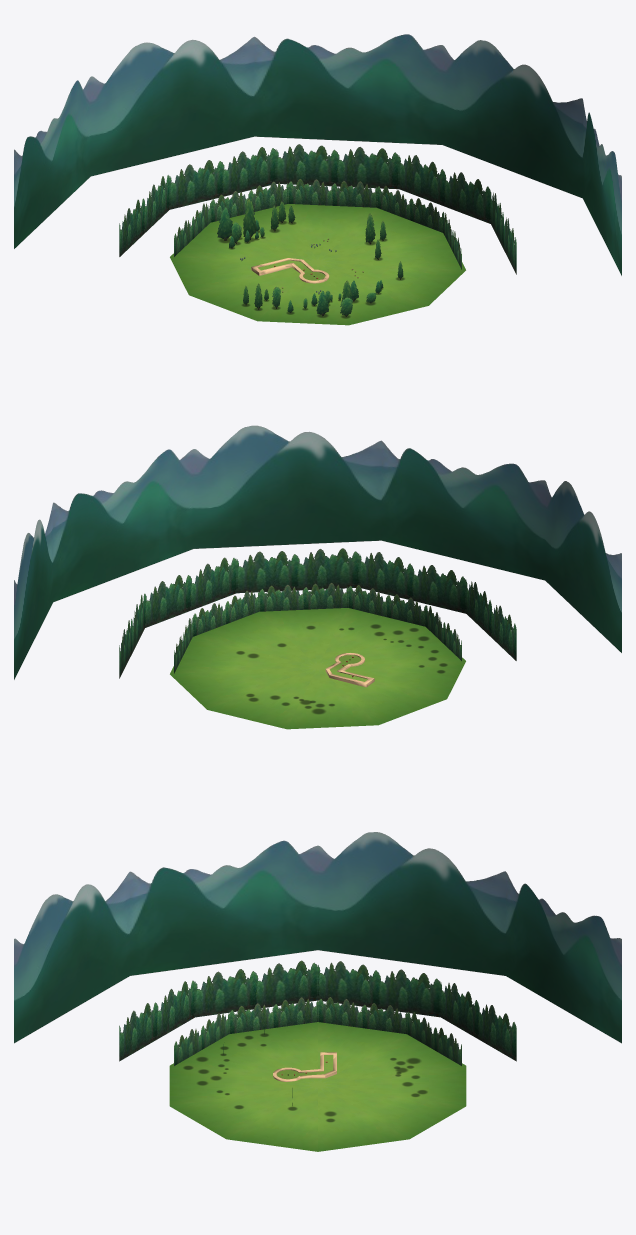
File: hole2.glb
The picture shows the model from 3 angles, top to bottom: view 1: azimuth 30°, elevation 25°; view 2: azimuth 150°, elevation 25°; view 3: azimuth 270°, elevation 25°; orthographic projection. The views are drawn at different scales.
Parts seen in each view (by area): view 1: background1, grass_baes, background3, background2, edges1; view 2: background1, grass_baes, background3, background2, edges1; view 3: background1, grass_baes, background3, background2, edges1.
Part boxes in pixels (x1,y1,x2,y2): background1: (14,34,621,275); grass_baes: (170,204,465,325); background3: (119,144,516,274); background2: (174,179,461,269); edges1: (251,258,329,283); background1: (14,425,621,679); grass_baes: (170,608,465,729); background3: (119,548,516,678); background2: (174,582,461,673); edges1: (325,653,374,687); background1: (14,832,621,1043); grass_baes: (169,1022,466,1151); background3: (119,960,516,1061); background2: (174,997,461,1065); edges1: (273,1052,336,1081).
Size of what is drawn, in the model's own units: 347 by 80.01 by 330.
Materials: 9 (9 with a texture image).
